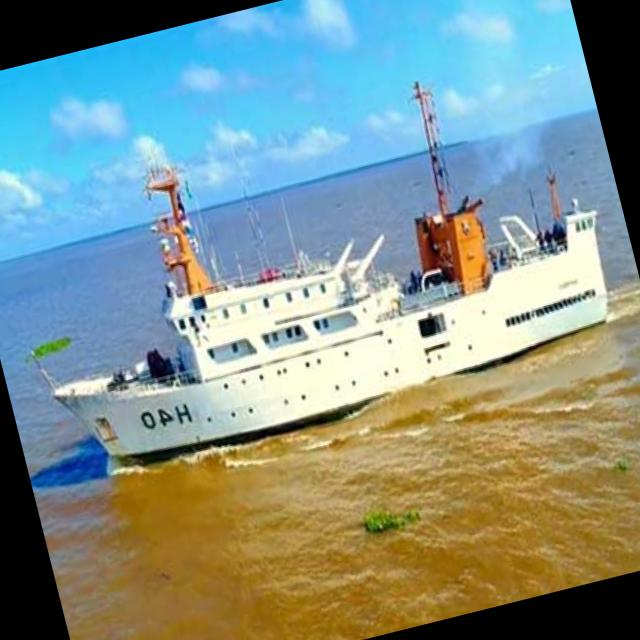Military: (45, 91, 607, 456)
